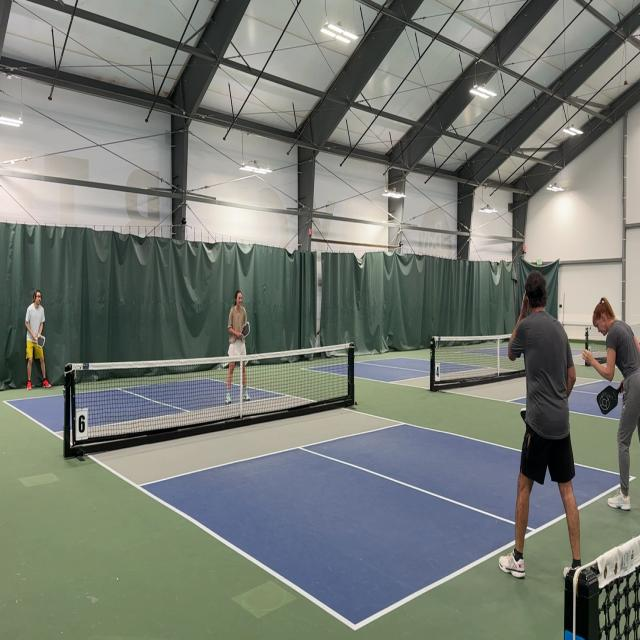ball: (581, 348, 590, 362)
